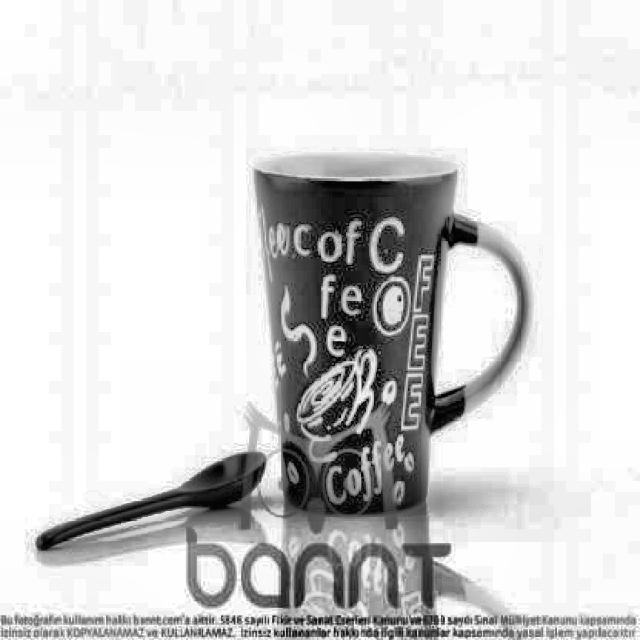Mug: (250, 148, 533, 520)
